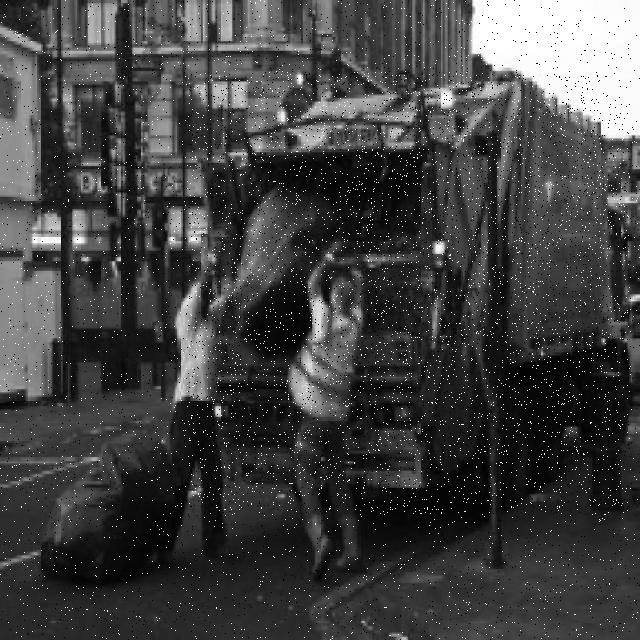Garbage Truck: (187, 72, 631, 514)
